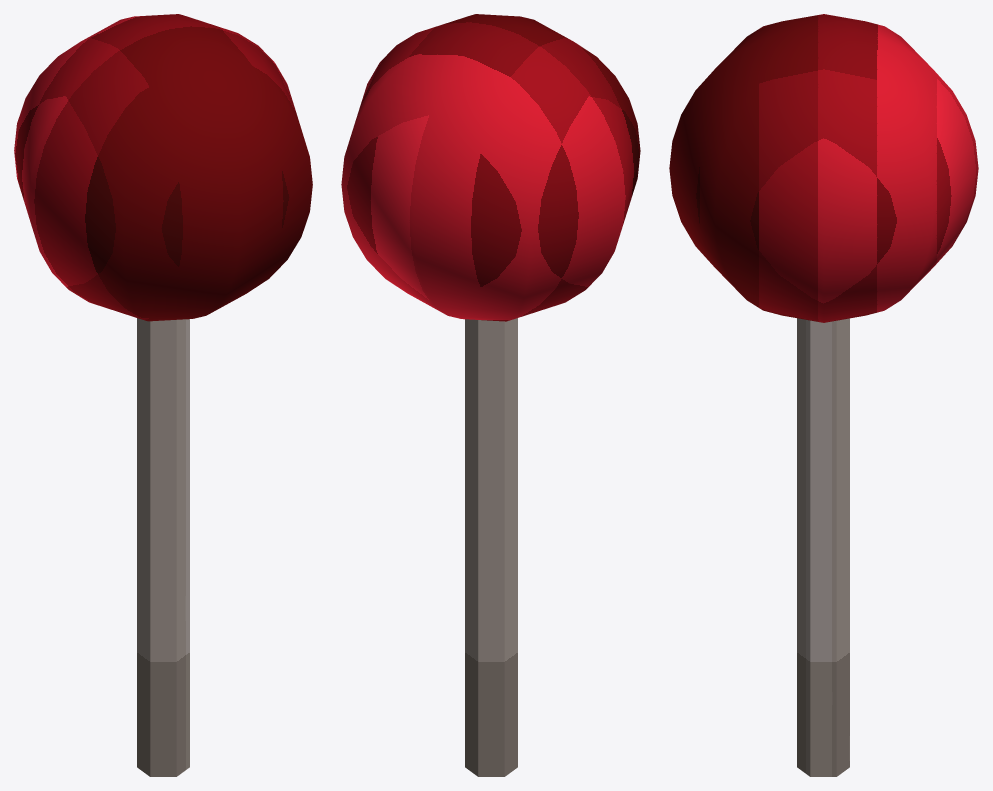
Rendered from 05_planetx02.gltf.
3 views of the same model, side by side, from view 1: azimuth 30°, elevation 25°; view 2: azimuth 150°, elevation 25°; view 3: azimuth 270°, elevation 25° (orthographic).
Parts seen in each view (by area): view 1: 05_planetx02; view 2: 05_planetx02; view 3: 05_planetx02.
Boxes of the visible parts, box(x1,y1,x2,y2) form: 05_planetx02: box(14, 14, 312, 776); 05_planetx02: box(341, 14, 640, 776); 05_planetx02: box(669, 14, 978, 776).
Size of the model in its own units: 0.9331 by 2.46 by 0.9331.
Materials: 2 (2 with a texture image).
